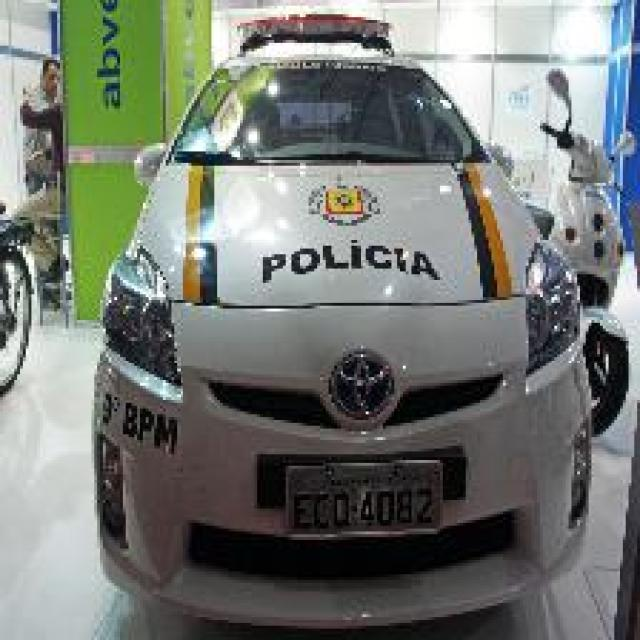Motorcycle: (534, 66, 637, 434)
Police-car: (89, 9, 594, 628)
